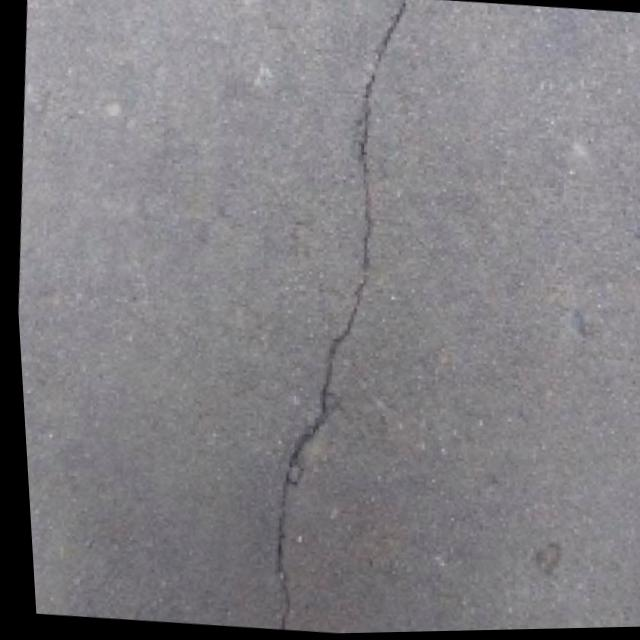Crack: (186, 0, 469, 637)
